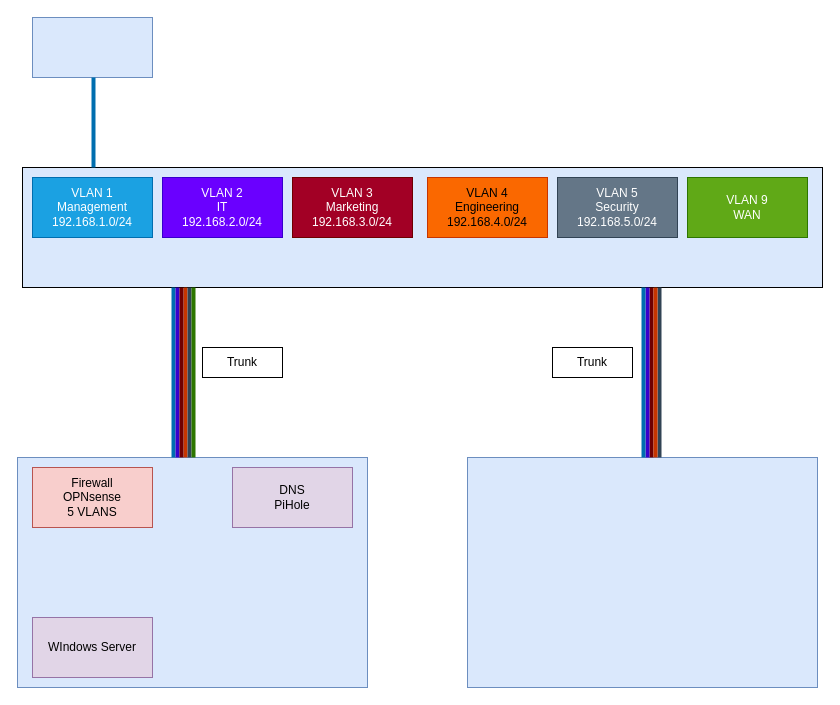
Some shapes in this 840 by 705 pixel diagram are drawn without their labels. Here are the shapes that lost their labels. From the top down, the box of each, then its label:
(32, 16, 152, 78): Management PC All-In-One
(22, 166, 822, 288): Managed Switch Cisco Catalyst 2950 24 Fast Ethernet + 2 Gigabit Ethernet Ports
(16, 456, 368, 688): Proxmox node 1 Dell 9020 i7 Processor 32GB DDR3 RAM
(466, 456, 818, 688): Proxmox node 2 Dell 9020 i7 Processor 32GB DDR3 RAM
